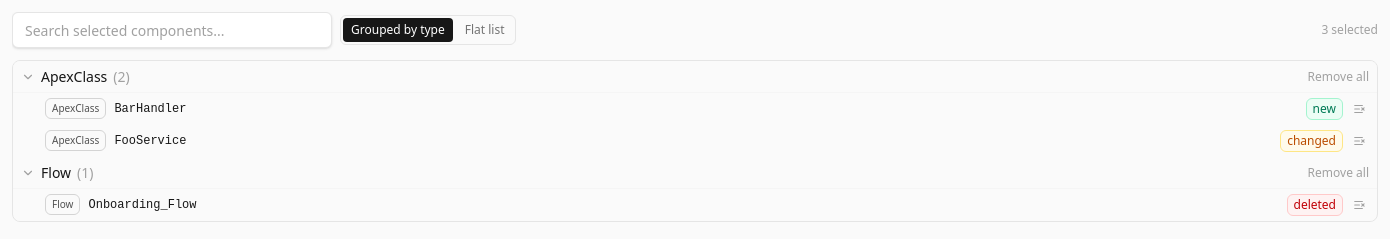
Test: SelectedComponentsView (cross-type "what am I about to deploy?" screen) › search narrows the list by name or type, case-insensitively
Type "onboarding" into the field with placeholder "Search selected components...".
click(172, 30); type("onboarding")  # box [12,12,332,48]
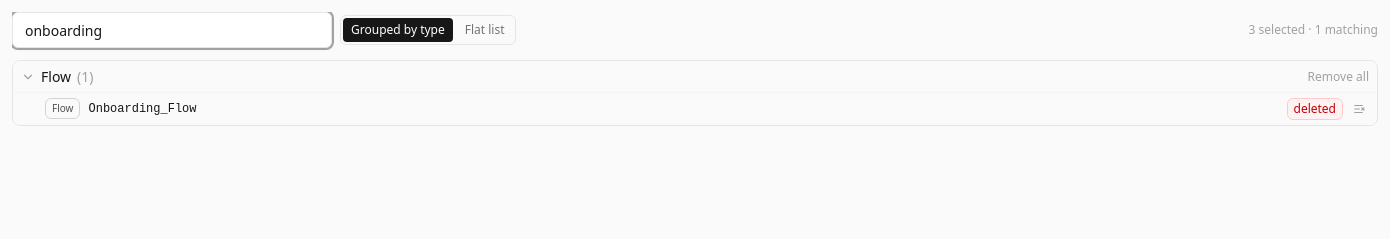
Expected: the text "Onboarding_Flow" is shown, [88,102,196,116]
Result: the text "FooService" is gone
